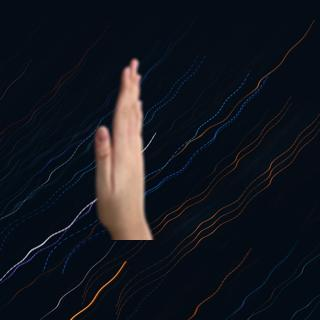Right: (87, 58, 164, 236)
